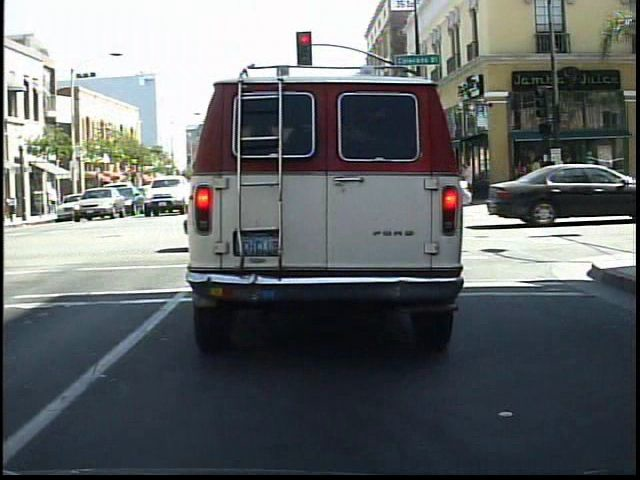person: (538, 153, 560, 206), (511, 158, 531, 204)
